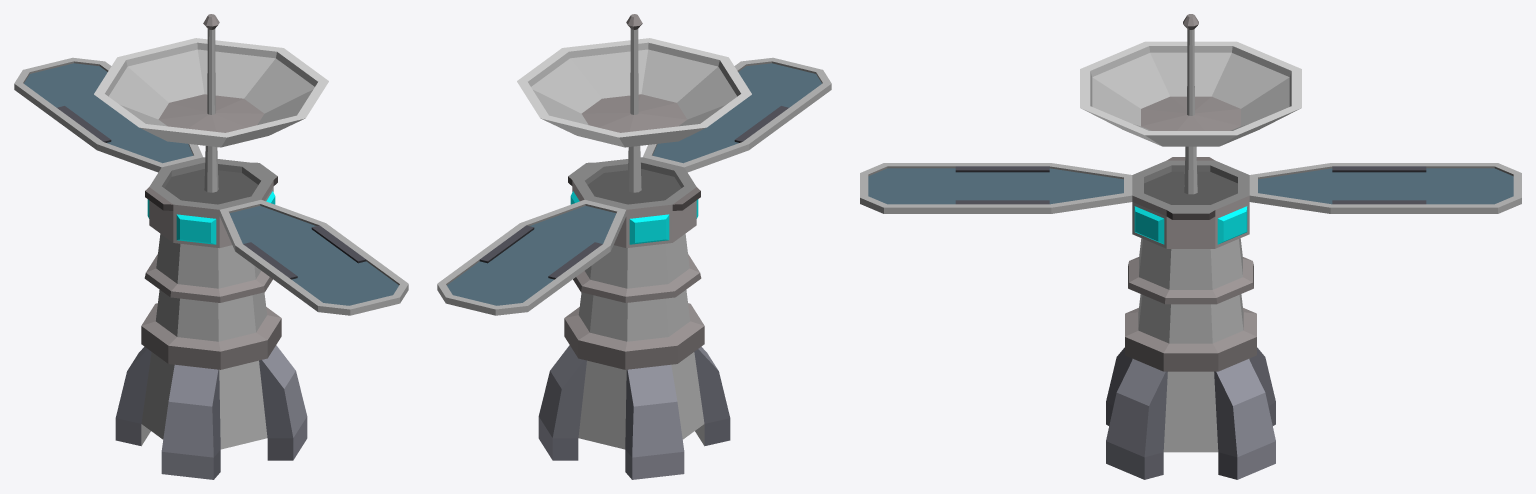
File: Satellite_01.glb
3 views of the same model, side by side, from view 1: azimuth 30°, elevation 25°; view 2: azimuth 150°, elevation 25°; view 3: azimuth 270°, elevation 25° (orthographic).
Visible parts, largest first — view 1: Satellite_01; view 2: Satellite_01; view 3: Satellite_01.
Boxes of the visible parts, box(x1,y1,x2,y2) form: Satellite_01: box(14, 14, 408, 479); Satellite_01: box(437, 14, 831, 479); Satellite_01: box(860, 14, 1521, 479).
Size of what is drawn, in the model's own units: 0.5133 by 1.1 by 1.53.
Materials: 1 (1 with a texture image).
